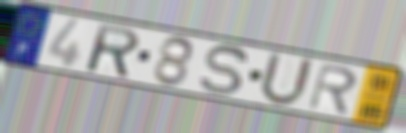4: (44, 16, 86, 71)
8: (150, 35, 197, 89)
R: (85, 22, 142, 81), (306, 62, 360, 117)
S: (198, 43, 251, 98)
U: (256, 49, 317, 109)
